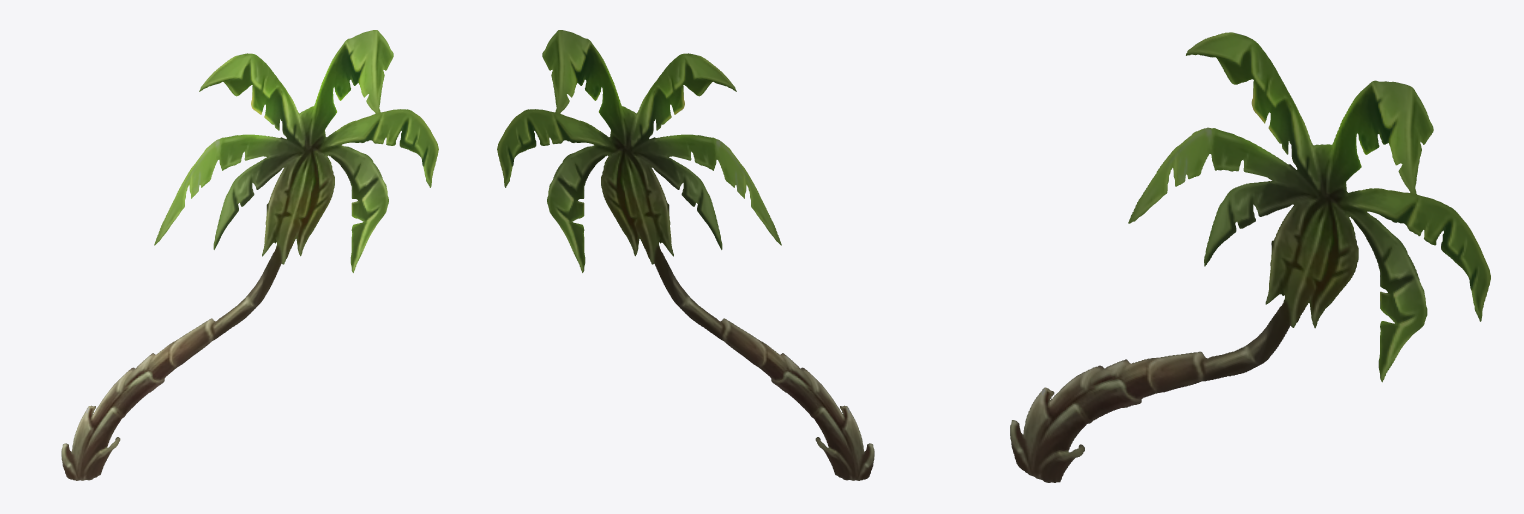
The model's file is Palm Tree BG.FBX.
The picture shows the model from 3 angles, left to right: view 1: azimuth 30°, elevation 25°; view 2: azimuth 150°, elevation 25°; view 3: azimuth 330°, elevation 25°; orthographic projection. The views are drawn at different scales.
Parts seen in each view (by area): view 1: Palm Tree BG; view 2: Palm Tree BG; view 3: Palm Tree BG.
Boxes of the visible parts, left/top/right/bottom form: Palm Tree BG: left=61, top=30, right=438, bottom=480; Palm Tree BG: left=497, top=30, right=874, bottom=480; Palm Tree BG: left=1010, top=32, right=1490, bottom=482.
Bounding box in the file's own units: 530 × 7.36e-05 × 457.
